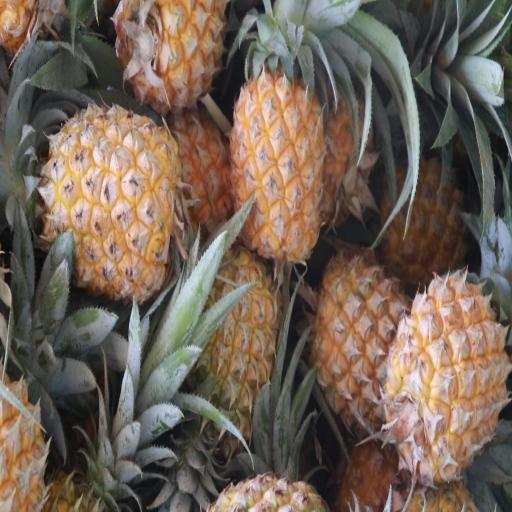------------------------------: (313, 258, 413, 434)
Pineapple - v8 v1: (386, 277, 507, 479), (49, 106, 177, 295), (229, 72, 322, 264), (196, 256, 278, 432), (119, 0, 226, 119), (387, 157, 471, 282)
